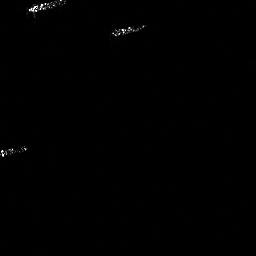ship: (27, 1, 67, 15), (111, 22, 145, 38), (1, 145, 27, 158)
